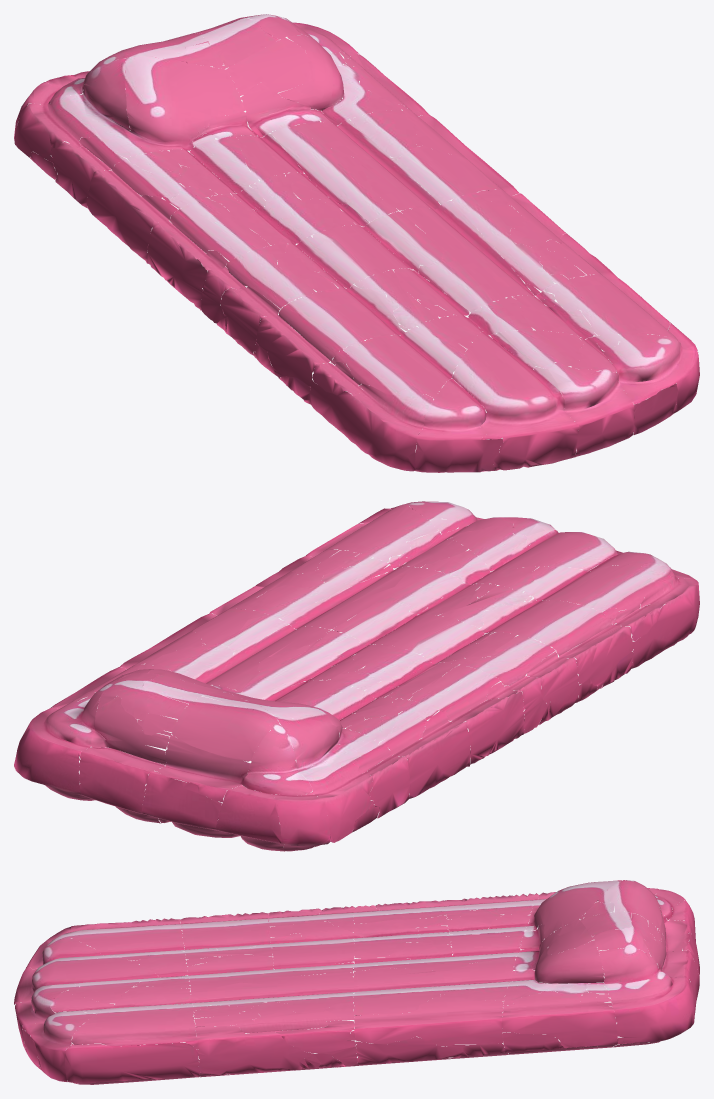
Rendered from colchoneta.glb.
3 renders of one model, top to bottom at view 1: azimuth 30°, elevation 25°; view 2: azimuth 150°, elevation 25°; view 3: azimuth 270°, elevation 25°, orthographic. The views are drawn at different scales.
Parts seen in each view (by area): view 1: tripo_node_7d08d968-9946-4098-ae39-3b04524eb5c7; view 2: tripo_node_7d08d968-9946-4098-ae39-3b04524eb5c7; view 3: tripo_node_7d08d968-9946-4098-ae39-3b04524eb5c7.
Part boxes in pixels (<box>): tripo_node_7d08d968-9946-4098-ae39-3b04524eb5c7: <box>14,14,699,472</box>; tripo_node_7d08d968-9946-4098-ae39-3b04524eb5c7: <box>14,501,699,851</box>; tripo_node_7d08d968-9946-4098-ae39-3b04524eb5c7: <box>14,880,699,1084</box>.
Size of the model in its own units: 0.4324 by 0.2121 by 0.9803.
1 material, 1 textured.
